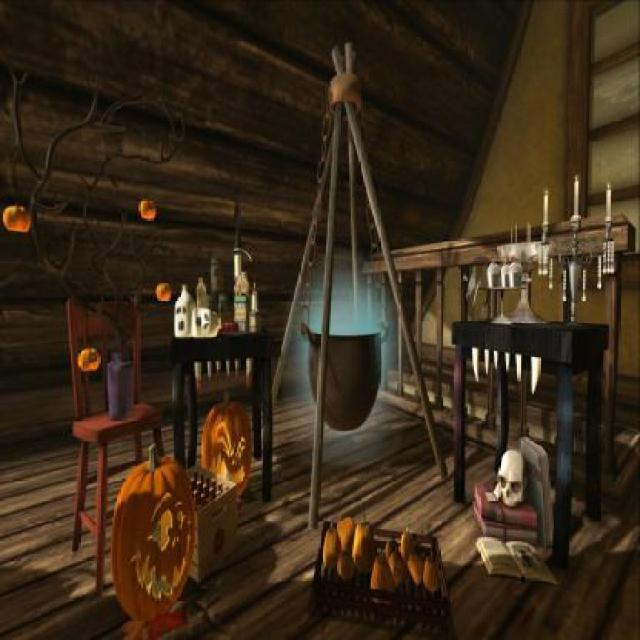Pumpkin: (105, 437, 190, 620), (322, 508, 440, 606), (200, 388, 253, 496), (2, 200, 32, 233), (78, 338, 100, 372), (136, 197, 156, 220), (154, 280, 172, 303)
